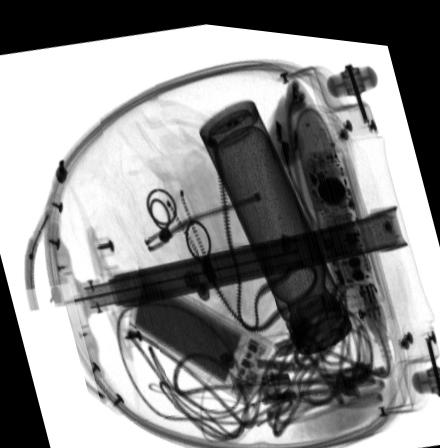Powerbank: (126, 263, 274, 400)
